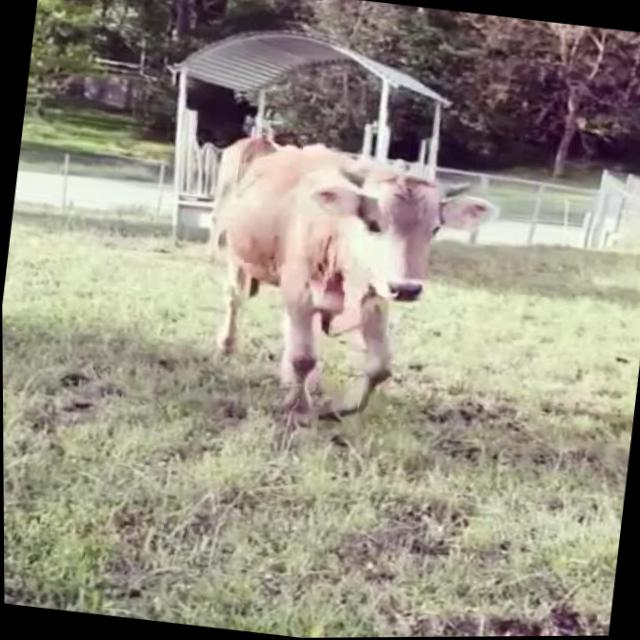cowFace: (288, 142, 511, 327)
